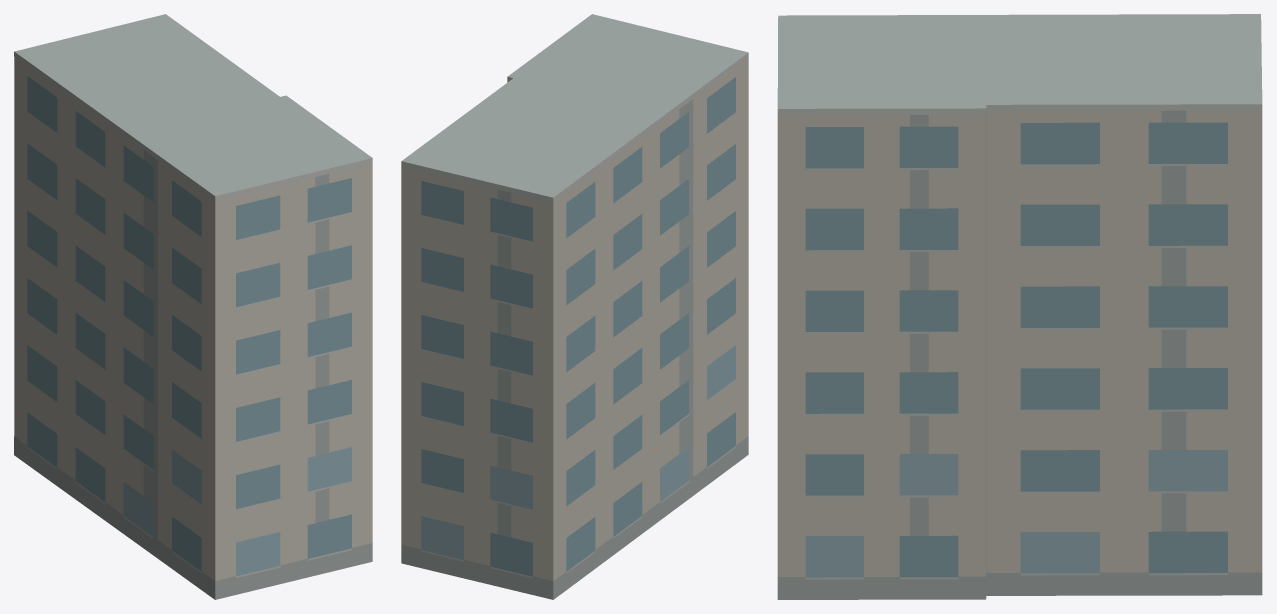
The model's file is survey-upis-32577609.glb.
3 views of the same model, side by side, from view 1: azimuth 30°, elevation 25°; view 2: azimuth 150°, elevation 25°; view 3: azimuth 270°, elevation 25° (orthographic). The views are drawn at different scales.
Parts seen in each view (by area): view 1: survey-upis-32577609.tmp; view 2: survey-upis-32577609.tmp; view 3: survey-upis-32577609.tmp.
Boxes of the visible parts, x1,y1,x2,y2 form: survey-upis-32577609.tmp: [14, 14, 372, 599]; survey-upis-32577609.tmp: [401, 14, 748, 599]; survey-upis-32577609.tmp: [777, 14, 1262, 599].
Size of the model in its own units: 7.84 by 18.9 by 16.93.
